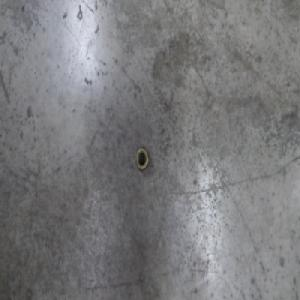Nut: (135, 146, 149, 173)
